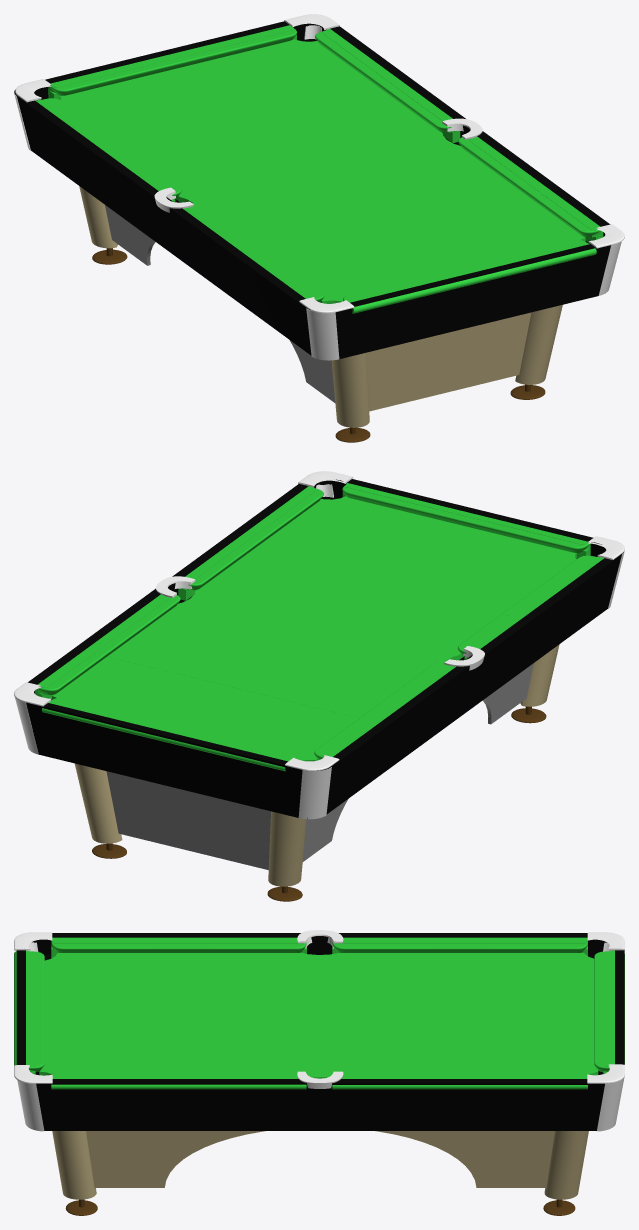
File: pool-table2.fbx
3 views of the same model, one above another, from view 1: azimuth 30°, elevation 25°; view 2: azimuth 150°, elevation 25°; view 3: azimuth 270°, elevation 25° (orthographic). The views are drawn at different scales.
Parts seen in each view (by area): view 1: Doek, Zijkanten, Sier achter, Poten, Sier rechts, Put styles, Put omheining; view 2: Doek, Zijkanten, Sier voor, Poten, Sier rechts, Put styles, Put omheining; view 3: Doek, Zijkanten, Sier links, Poten, Put styles, Put omheining, Put rechtsmidden, Put linksmidden, Put omheining linksachter, Poots rechtsonder, Poot linksachter.
Boxes of the visible parts, <box> form: Doek: <box>35,25,603,313</box>; Zijkanten: <box>14,21,610,358</box>; Sier achter: <box>367,312,531,411</box>; Poten: <box>79,186,562,427</box>; Sier rechts: <box>105,205,335,402</box>; Put styles: <box>14,25,621,360</box>; Put omheining: <box>15,14,624,248</box>; Doek: <box>35,483,603,771</box>; Zijkanten: <box>26,479,623,818</box>; Sier voor: <box>106,771,270,869</box>; Poten: <box>74,644,559,886</box>; Sier rechts: <box>302,663,533,861</box>; Put styles: <box>15,484,624,819</box>; Put omheining: <box>14,471,353,770</box>; Doek: <box>14,937,624,1089</box>; Zijkanten: <box>16,933,624,1130</box>; Sier links: <box>86,1131,554,1187</box>; Poten: <box>52,1131,588,1199</box>; Put styles: <box>17,942,624,1131</box>; Put omheining: <box>14,932,624,1083</box>; Put rechtsmidden: <box>297,1071,343,1088</box>; Put linksmidden: <box>297,930,343,948</box>; Put omheining linksachter: <box>14,932,52,950</box>; Poots rechtsonder: <box>543,1199,575,1215</box>; Poot linksachter: <box>65,1199,97,1215</box>.
Size of the model in its own units: 8.94 by 4.36 by 15.08.
